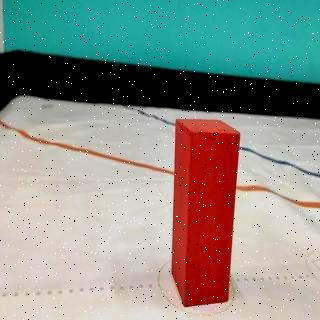redbox: (172, 114, 240, 310)
